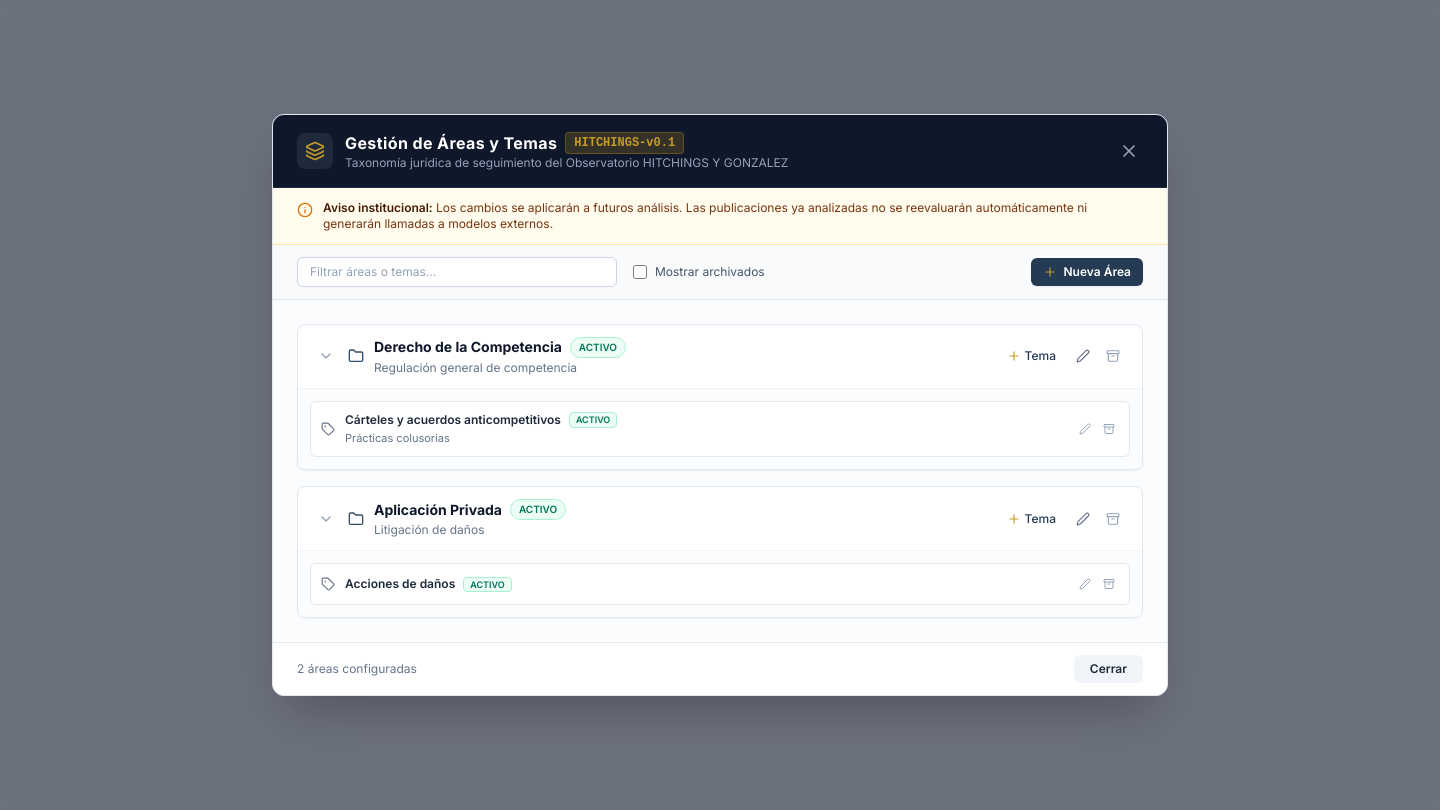
Editable Taxonomy Management (Bloque 11B) › handles optimistic concurrency conflict (HTTP 409) with informative banner and reload option
Expected: the text "Derecho de la Competencia" is shown, [374, 337, 562, 357]
Click "Nueva Área"
Click the button "Nueva Área" at [1087, 272], box [1032, 258, 1143, 286]
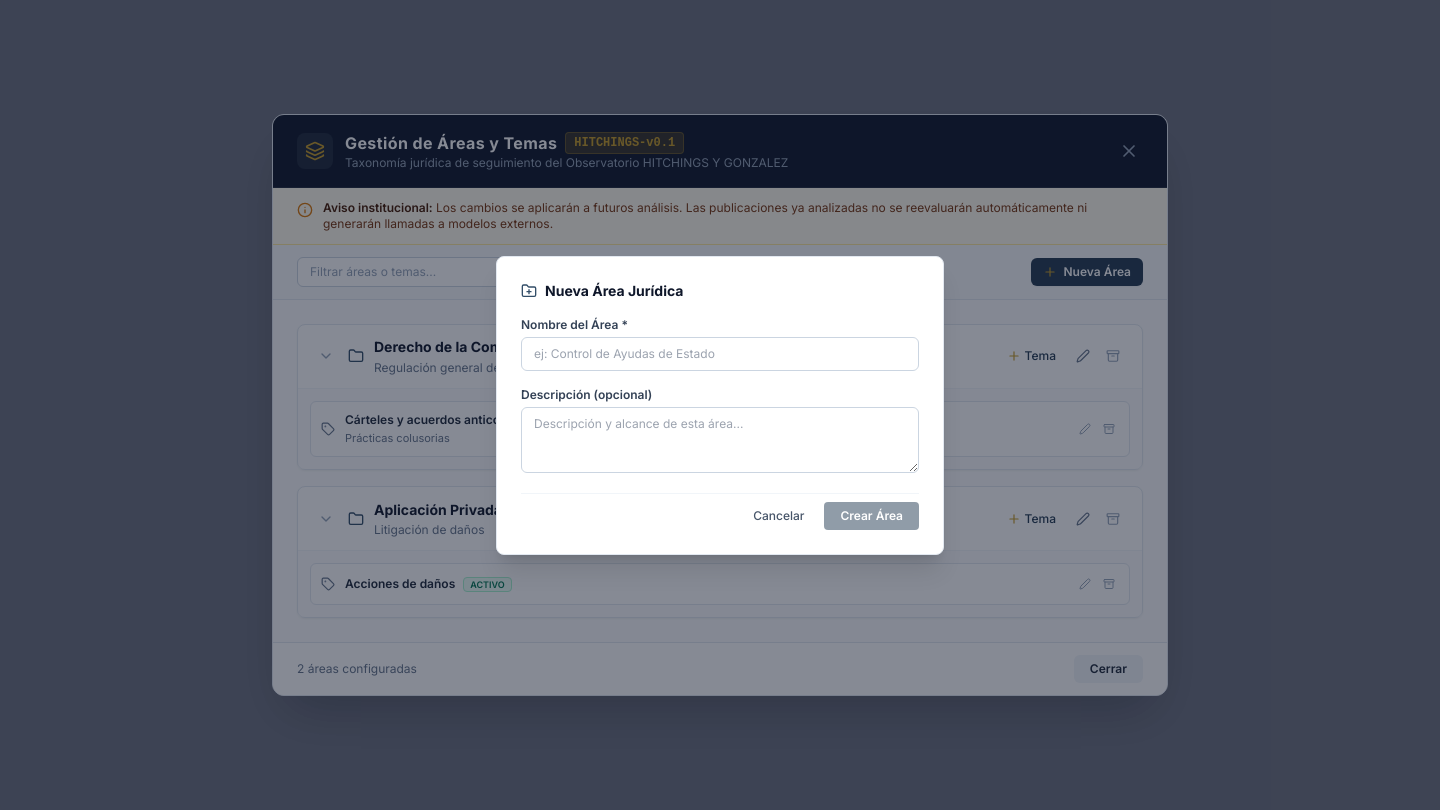
Fill form
Type "Nueva Área Concurrente" into the field with placeholder "ej: Control de Ayudas de Estado" at [720, 354], box [521, 336, 919, 370]
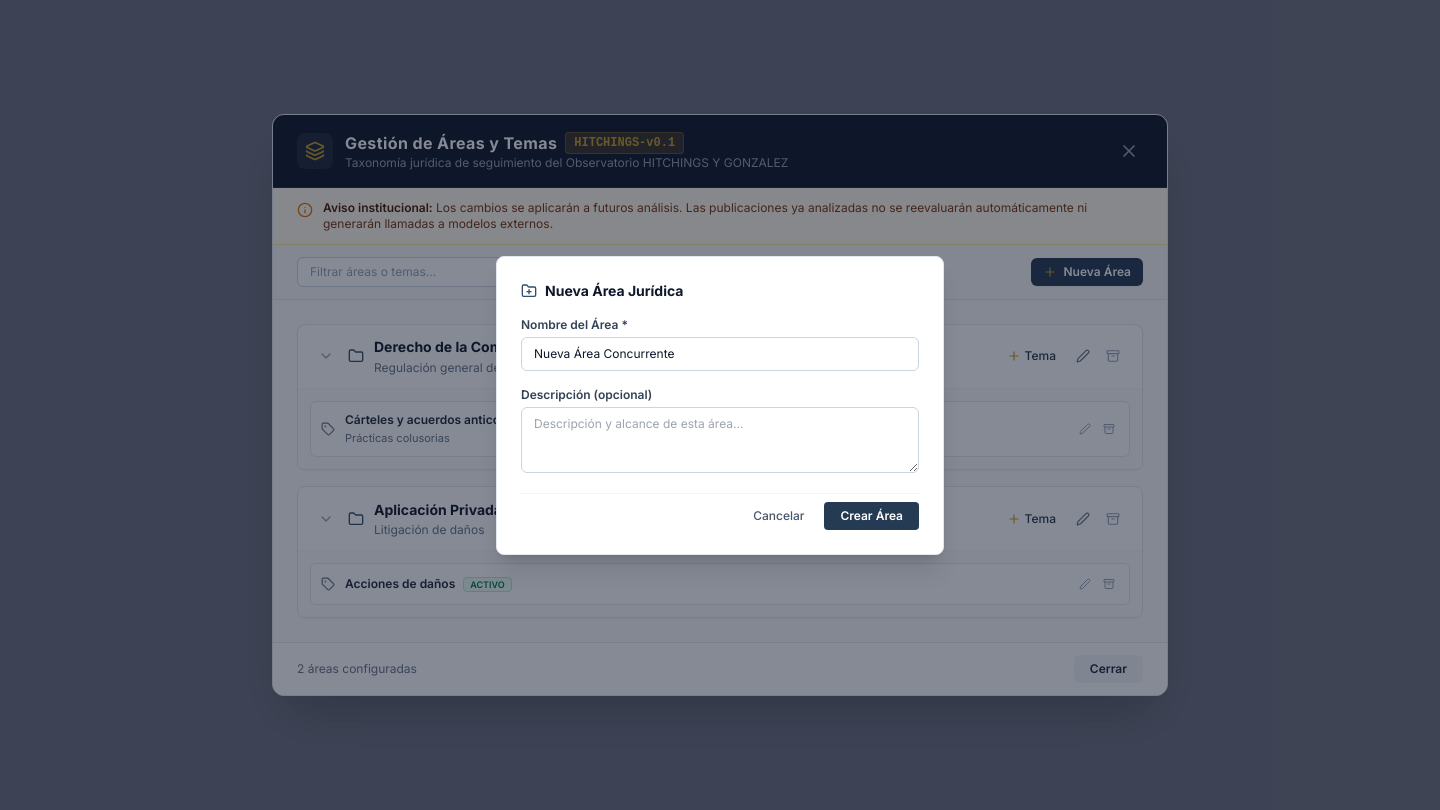
Click the button "Crear Área" at [872, 516], box [824, 502, 919, 530]
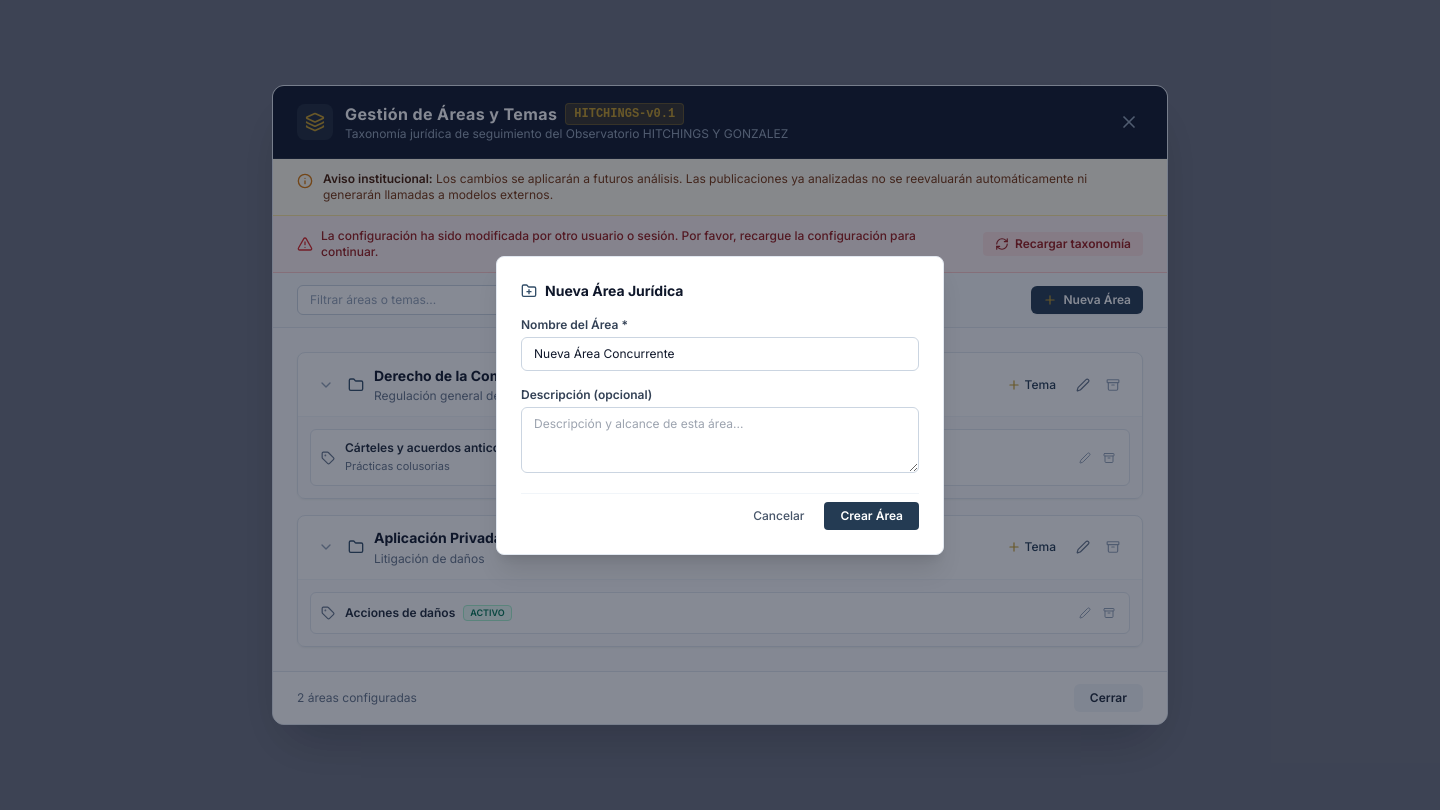
Now the text "La configuración ha sido modificada por otro usuario o sesión" is shown, box [321, 228, 916, 259]
Now the button "Recargar taxonomía" is shown, box [983, 232, 1143, 256]
